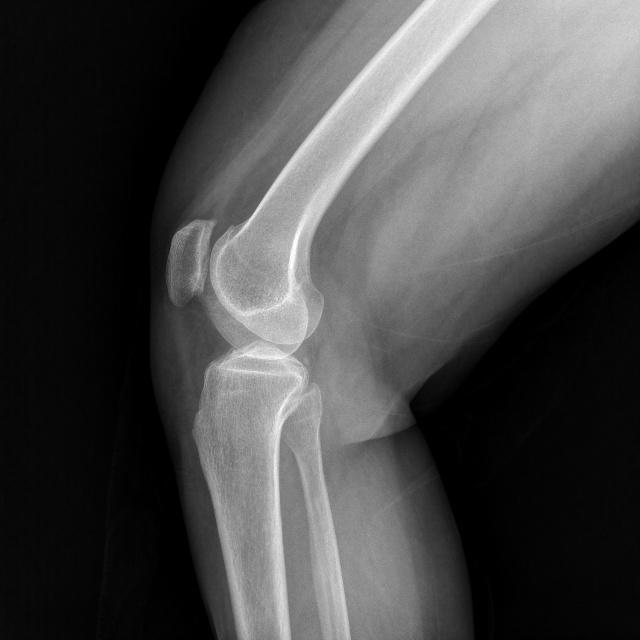Knee: (165, 213, 324, 438)
